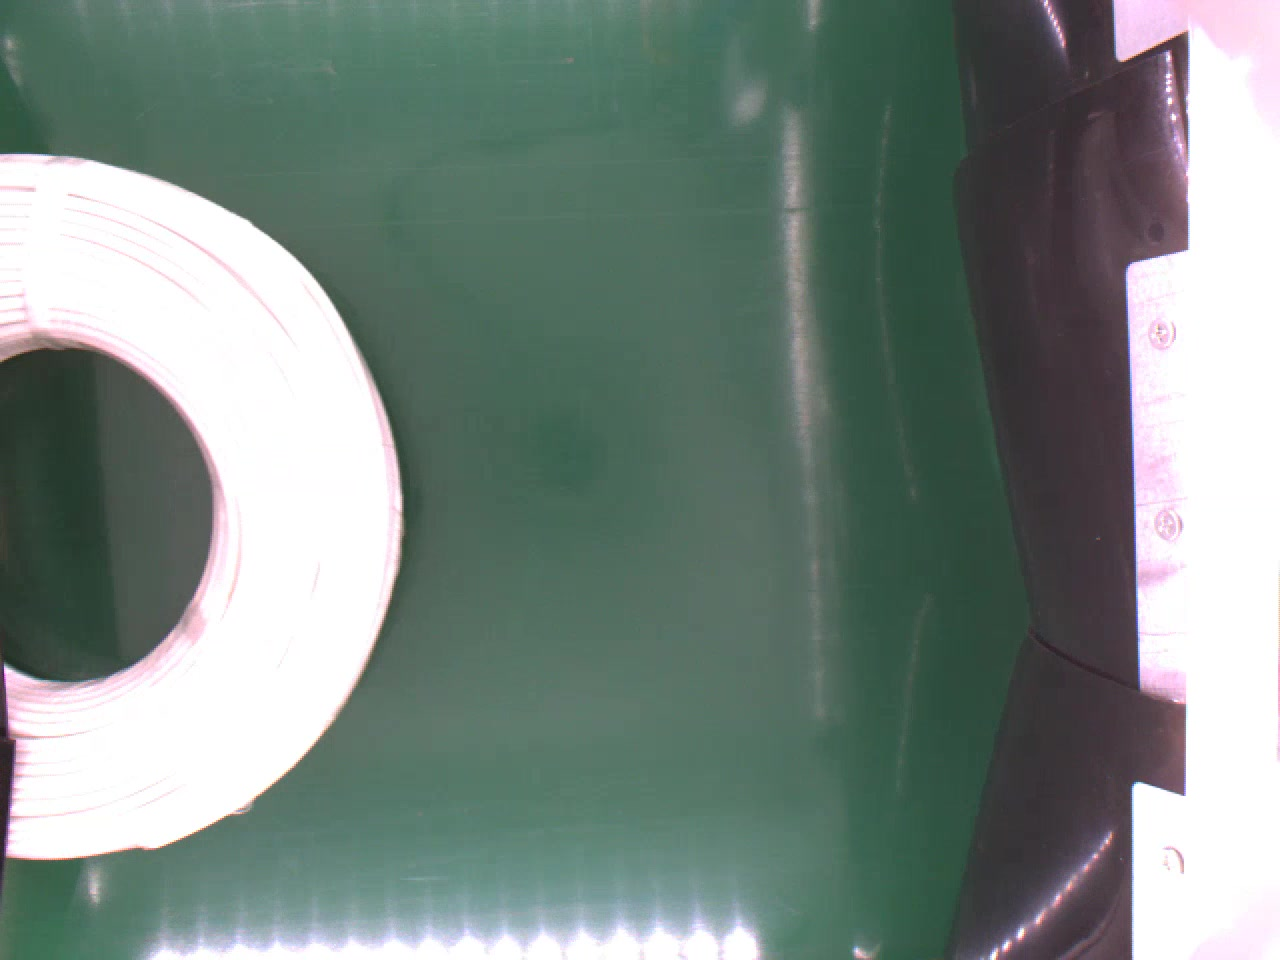white: (0, 149, 408, 864)
